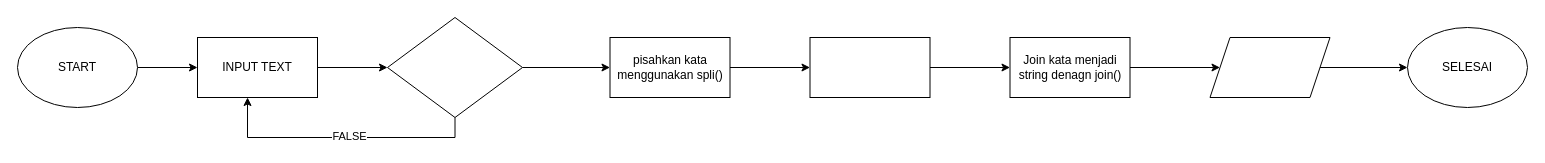
Some shapes in this 1545 by 163 pixel diagram are drawn without their labels. The shapes that lost their labels are listed below. From the top down, each one's centre as x and y in pixels, then its label:
(454,67): JIKA INPUT BUKAN TEXT
(869,67): reverse jata menggukan .reverse()
(1269,67): Output hasil
